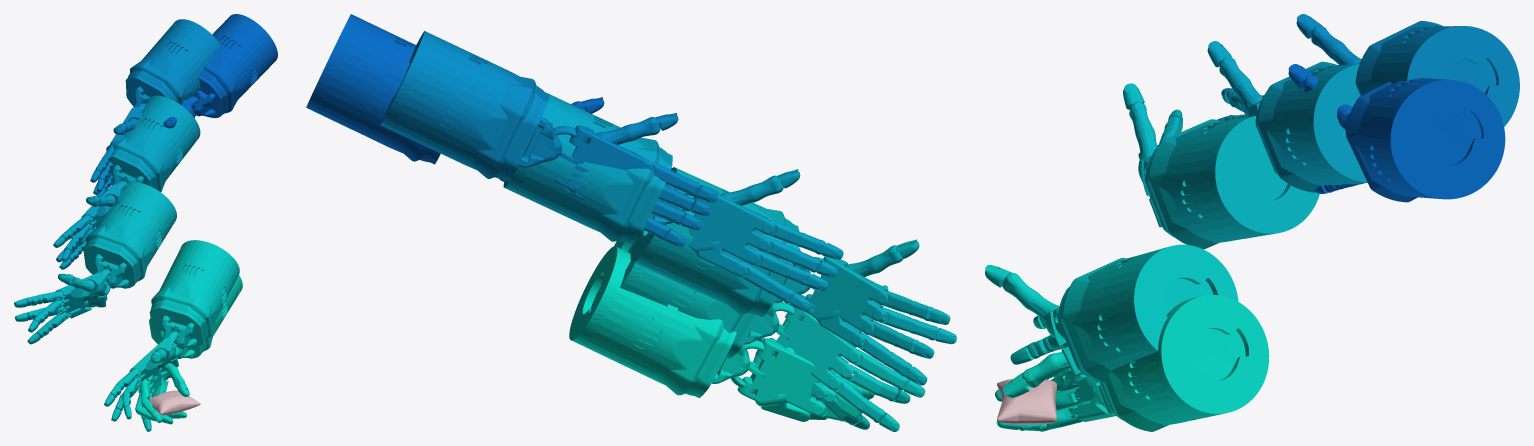
3 views of the same model, side by side, from view 1: azimuth 30°, elevation 25°; view 2: azimuth 150°, elevation 25°; view 3: azimuth 270°, elevation 25° (orthographic). The views are drawn at different scales.
Parts seen in each view (by area): view 1: world, decomposed.obj; view 2: world; view 3: world, decomposed.obj.
Boxes of the visible parts, left/top/right/bottom form: world: left=14, top=14, right=277, bottom=431; decomposed.obj: left=149, top=390, right=200, bottom=415; world: left=306, top=14, right=956, bottom=431; world: left=985, top=14, right=1519, bottom=431; decomposed.obj: left=997, top=379, right=1056, bottom=424.
Bounding box in the file's own units: 0.7865 × 0.6697 × 0.6036.
